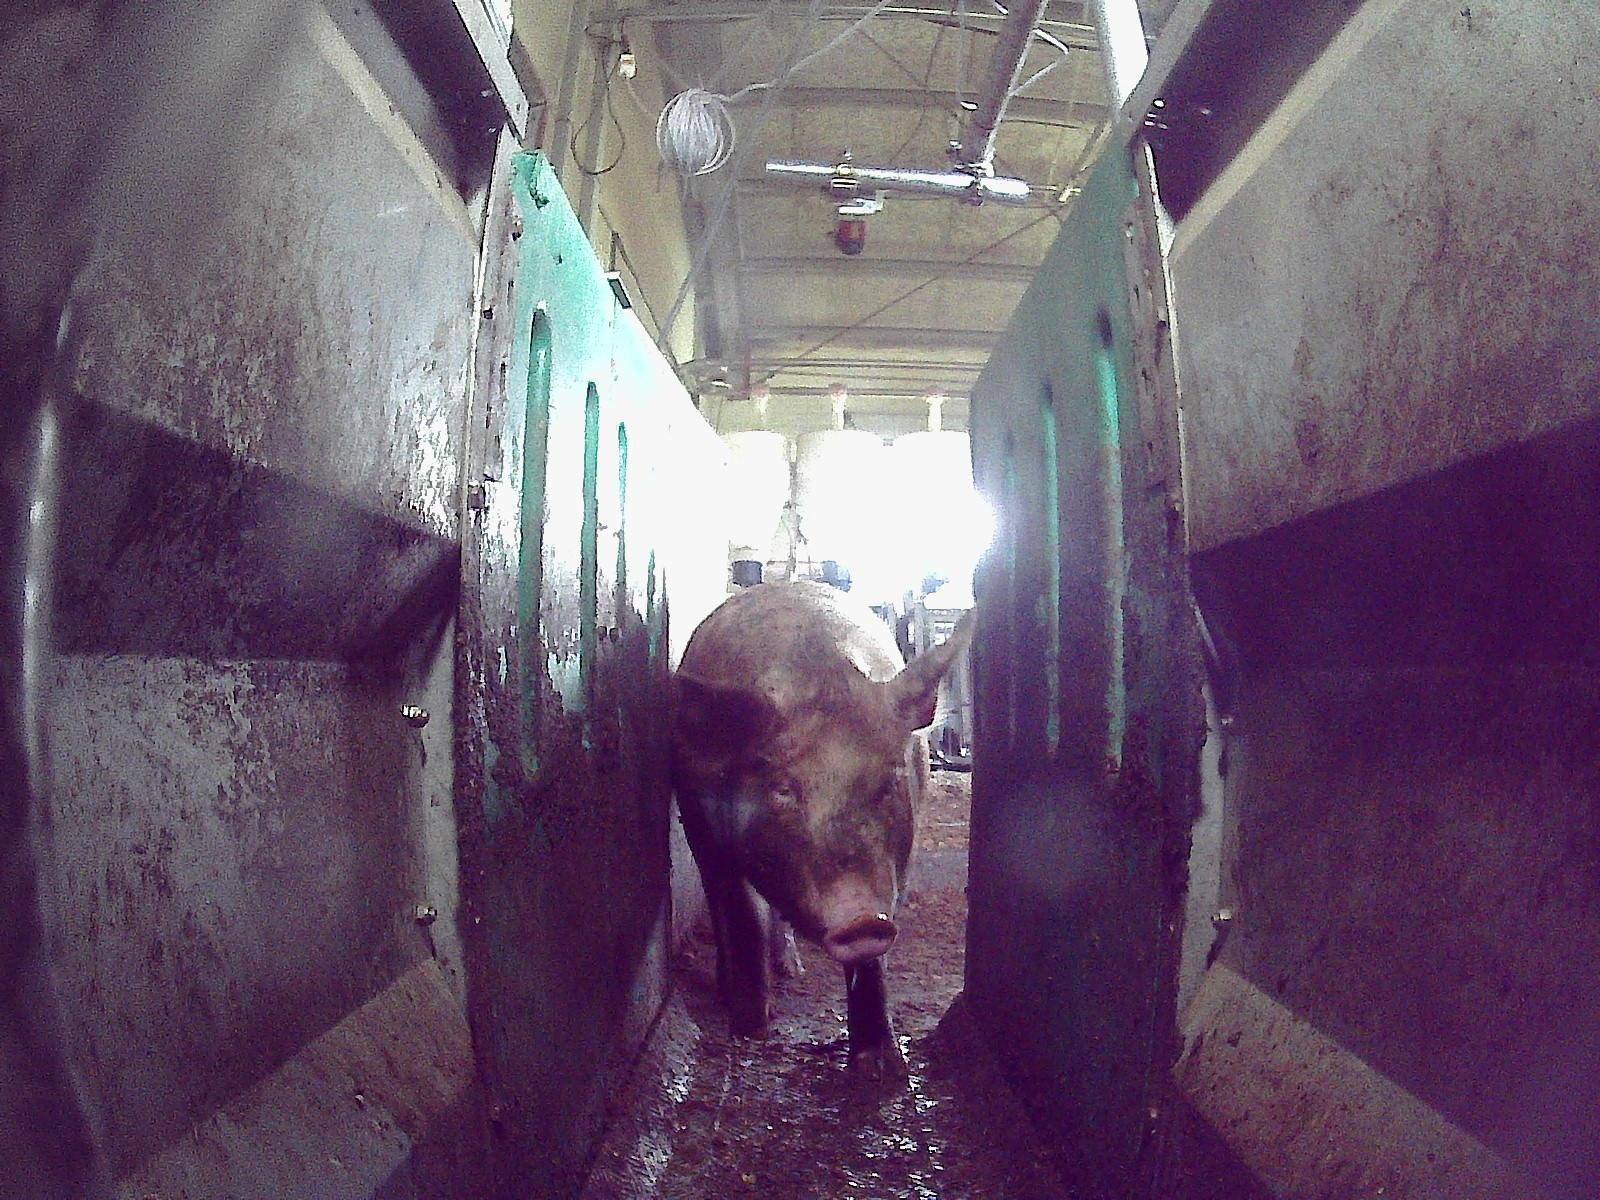Face: (725, 699, 909, 960)
